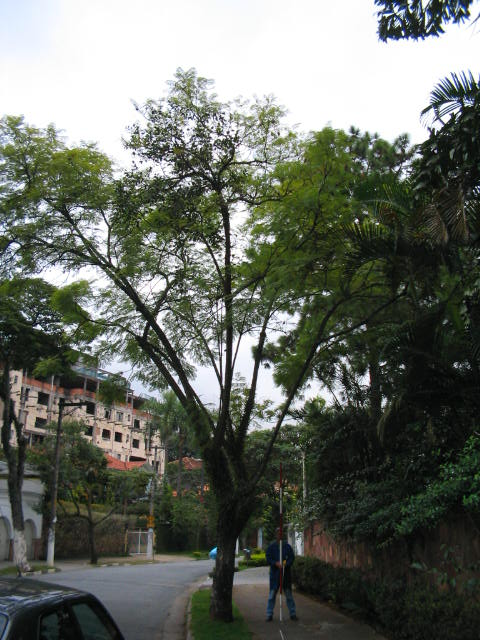crown: (3, 70, 408, 402)
stem: (203, 506, 257, 620)
stick: (268, 460, 296, 618)
tree: (1, 68, 409, 622), (24, 417, 157, 563), (1, 315, 77, 566)
